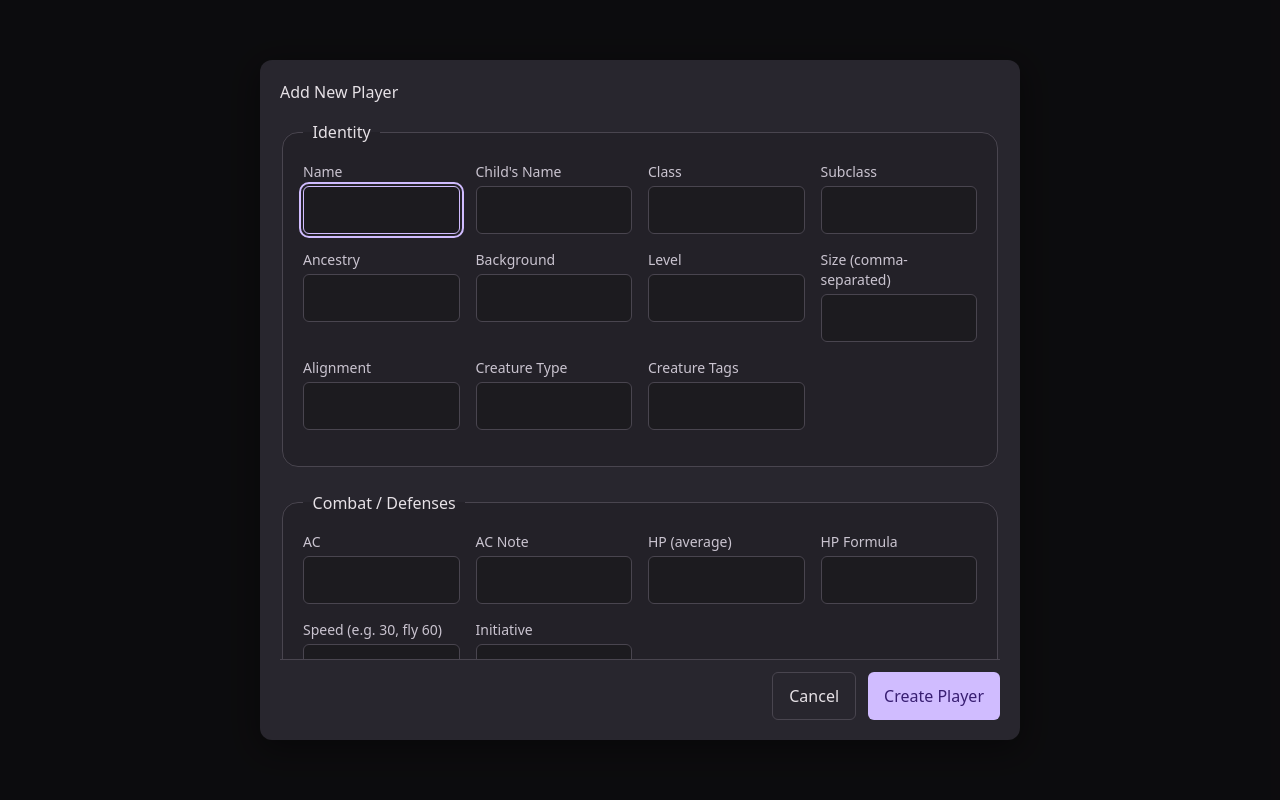
Test case: PlayerEditor › Dialog contract › reports save status via an accessible status region
Type "Failed Player" into the field labelled "Name".
click(381, 210); type("Failed Player")  # box [303, 186, 460, 234]
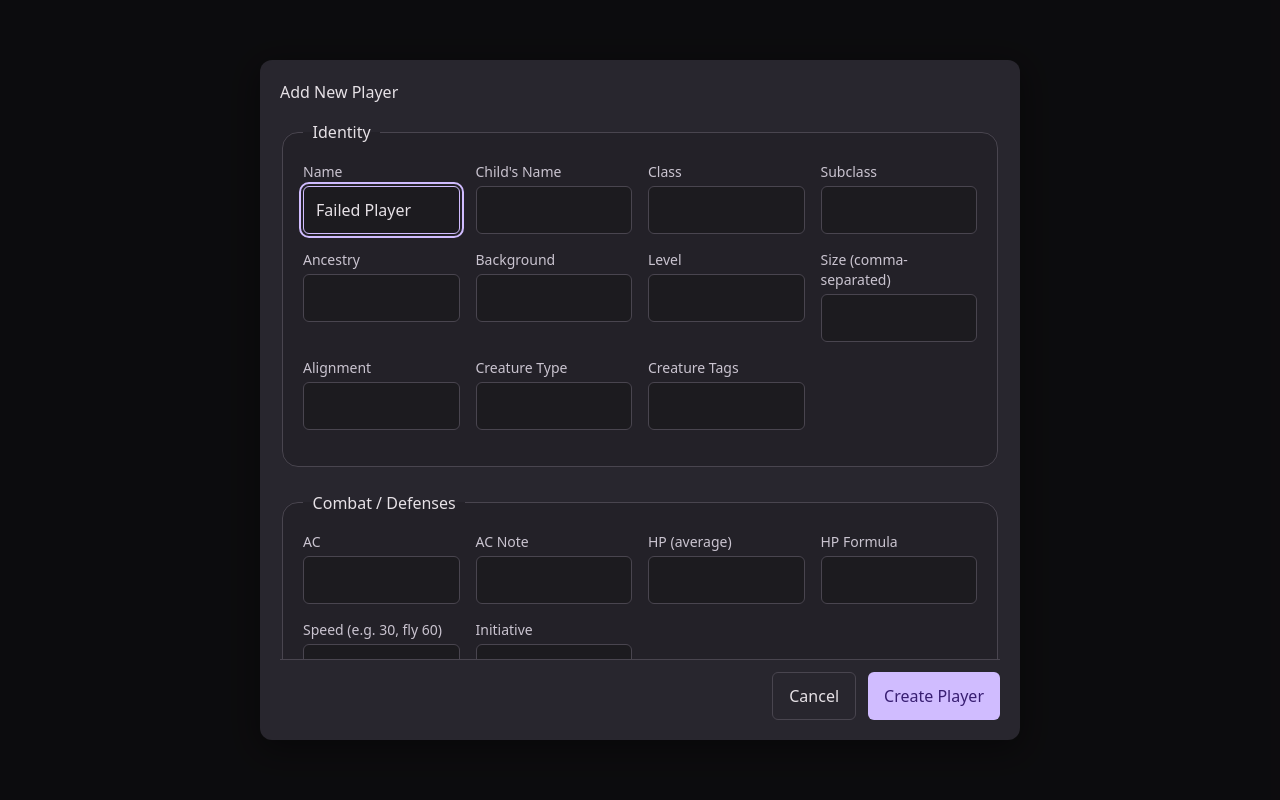
Click the button "Create Player".
click(934, 696)  # box [868, 672, 1000, 720]
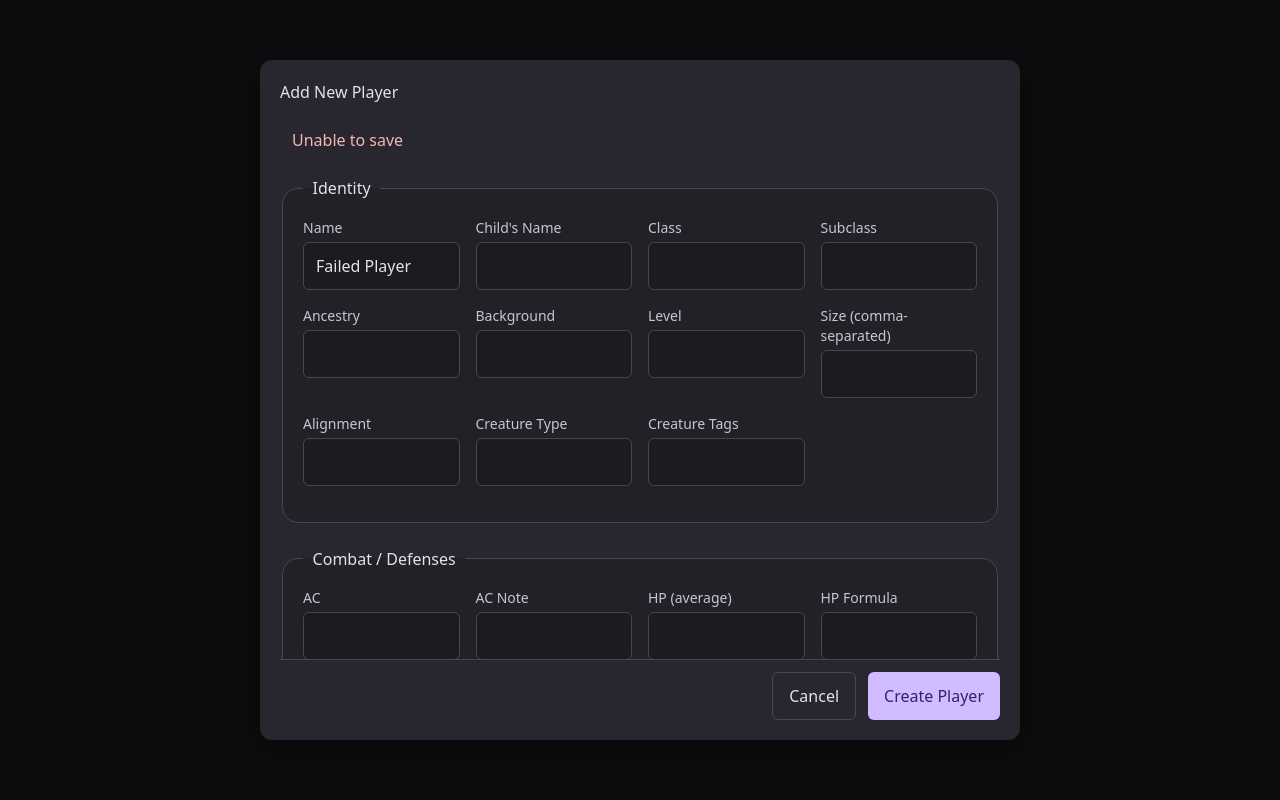
Expected: the message reads "Unable to save", [292, 129, 403, 151]
